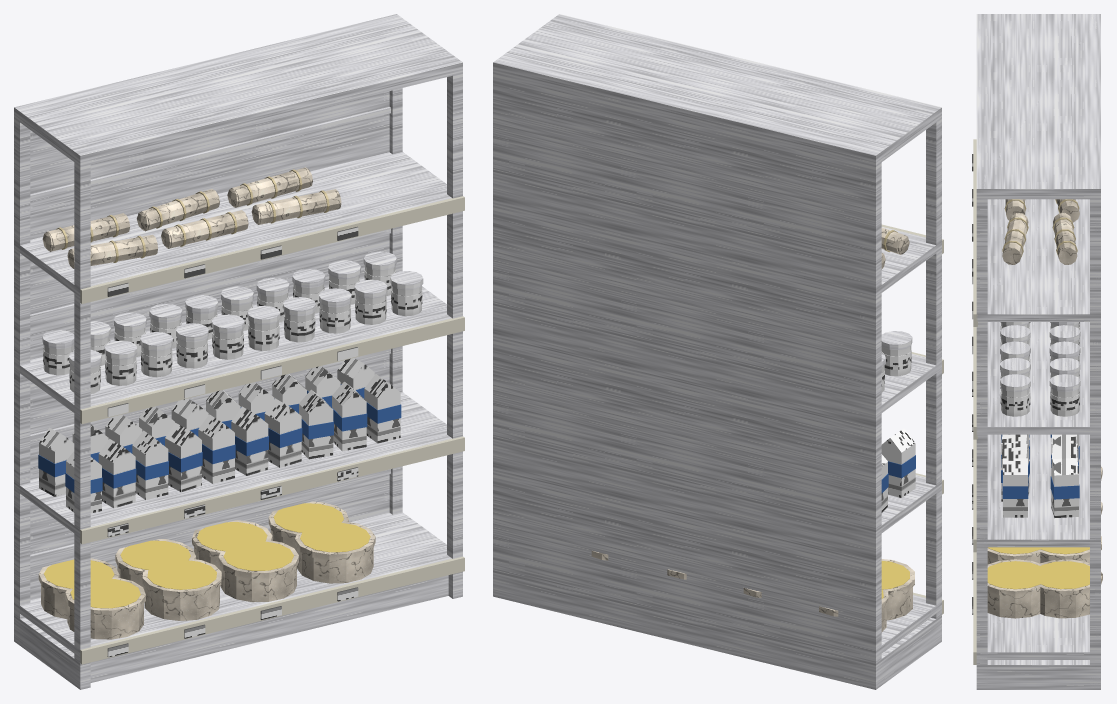
3 views of the same model, side by side, from view 1: azimuth 30°, elevation 25°; view 2: azimuth 150°, elevation 25°; view 3: azimuth 270°, elevation 25° (orthographic). The views are drawn at different scales.
Visible parts, largest first — view 1: metallo_003, metallo_001, metallo_000, liscio_005, metallo_004, metallo_002, crosta_030, crosta_024, crosta_018, crosta_143, crosta_139, liscio_032 (+38 smaller); view 2: metallo_001, metallo_003, metallo_000, metallo_004, stampa_a_035; view 3: metallo_003, metallo_000, metallo_004, metallo_001, liscio_005, liscio_029, stampa_a_069, liscio_032, crosta_030, stampa_a_071, crosta_027, crosta_141 (+29 smaller).
Part boxes in pixels (bbox=[...]): metallo_003: bbox=[14, 15, 462, 656]; metallo_001: bbox=[14, 14, 399, 642]; metallo_000: bbox=[14, 14, 462, 689]; liscio_005: bbox=[79, 196, 464, 664]; metallo_004: bbox=[17, 575, 448, 686]; metallo_002: bbox=[30, 107, 390, 561]; crosta_030: bbox=[297, 548, 373, 583]; crosta_024: bbox=[220, 567, 296, 602]; crosta_018: bbox=[144, 586, 219, 620]; crosta_143: bbox=[251, 189, 341, 224]; crosta_139: bbox=[161, 210, 248, 248]; liscio_032: bbox=[300, 522, 370, 552]; metallo_001: bbox=[493, 62, 878, 689]; metallo_003: bbox=[493, 14, 941, 656]; metallo_000: bbox=[493, 14, 941, 689]; metallo_004: bbox=[878, 618, 937, 687]; stampa_a_035: bbox=[881, 428, 915, 497]; metallo_003: bbox=[976, 14, 1100, 659]; metallo_000: bbox=[976, 14, 1100, 689]; metallo_004: bbox=[985, 660, 1095, 689]; metallo_001: bbox=[1095, 15, 1100, 689]; liscio_005: bbox=[973, 139, 977, 664]; liscio_029: bbox=[1032, 561, 1089, 589]; stampa_a_069: bbox=[1051, 457, 1078, 517]; liscio_032: bbox=[987, 561, 1047, 589]; crosta_030: bbox=[987, 591, 1040, 618]; stampa_a_071: bbox=[1003, 458, 1027, 517]; crosta_027: bbox=[1040, 592, 1089, 618]; crosta_141: bbox=[1053, 213, 1077, 264].
Size of the model in its own units: 1.5 by 2 by 0.4736.
Materials: 19 (15 with a texture image).
